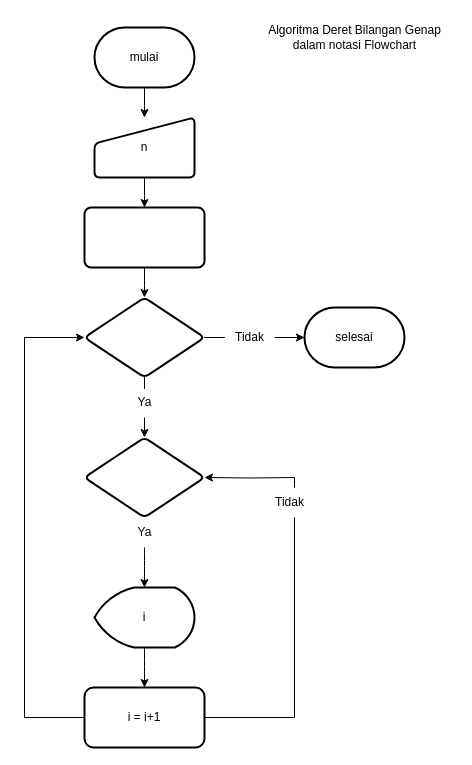
Image size: 472x765. Some labels were removed from this diagram. The shapes that lost their labels are listed below. From the top down, each one's box as (x1, y1, x2, y2) in pixels, then its label:
(83, 206, 205, 268): i = 1
(83, 296, 205, 378): i <= 2*n
(83, 436, 205, 518): i mod 2 == 0
